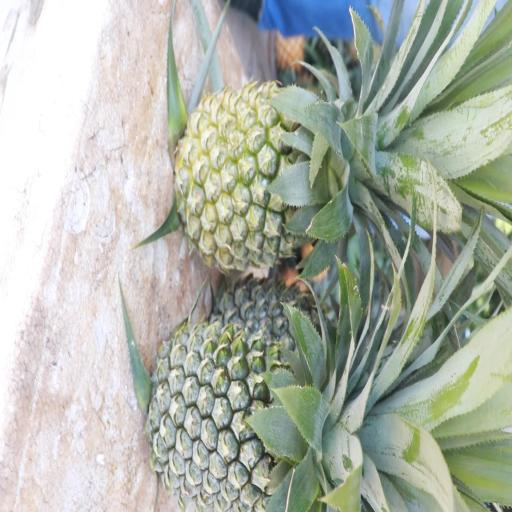Pineapple - v8 v1: (180, 78, 356, 272)
